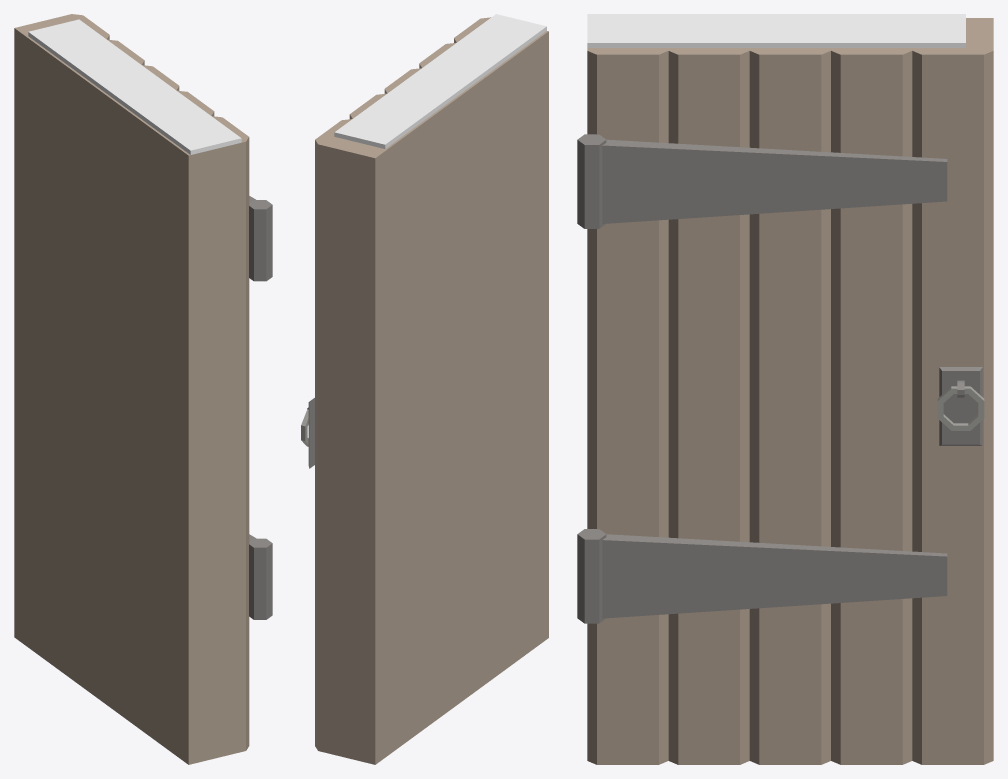
The model's file is modular_village_wood_door_1.glb.
The picture shows the model from 3 angles, left to right: view 1: azimuth 30°, elevation 25°; view 2: azimuth 150°, elevation 25°; view 3: azimuth 270°, elevation 25°; orthographic projection. The views are drawn at different scales.
Visible parts, largest first — view 1: door, Cube; view 2: door, Cube; view 3: door, Cube.
Boxes of the visible parts, x1=… form: door: x1=14, y1=14, x2=272, y2=764; Cube: x1=28, y1=19, x2=241, y2=154; door: x1=301, y1=17, x2=548, y2=764; Cube: x1=334, y1=14, x2=546, y2=148; door: x1=577, y1=18, x2=993, y2=764; Cube: x1=587, y1=14, x2=965, y2=47.
Size of the model in its own units: 0.1922 by 1.36 by 0.717.
